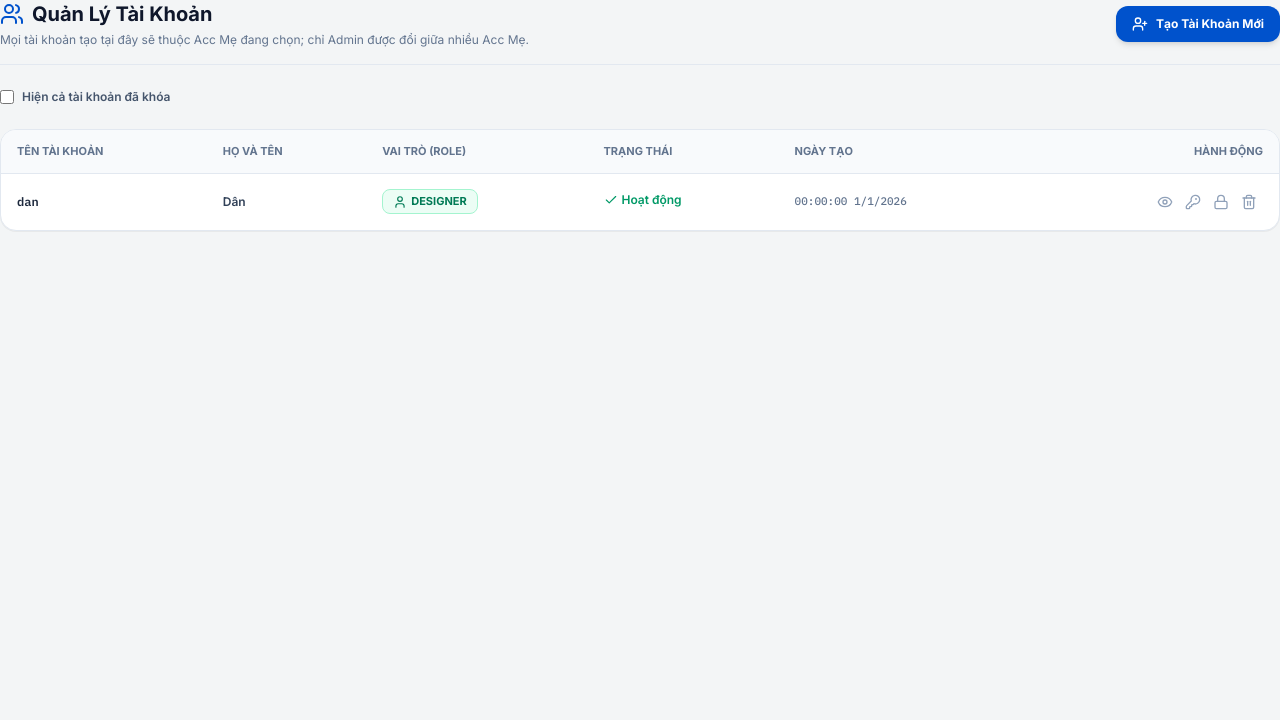
Test: UsersPage › delete refused (409, has history) offers "Xóa tất cả"; confirming it force-deletes
This screenshot has width=1280, height=720.
Expected: the text "dan" is shown, [1,173,207,230]
What coordinates should you click on to do the following:
click the button titled "Xóa tài khoản"
I would click on:
 (1249, 202)
Its box is [1235,188,1263,216].
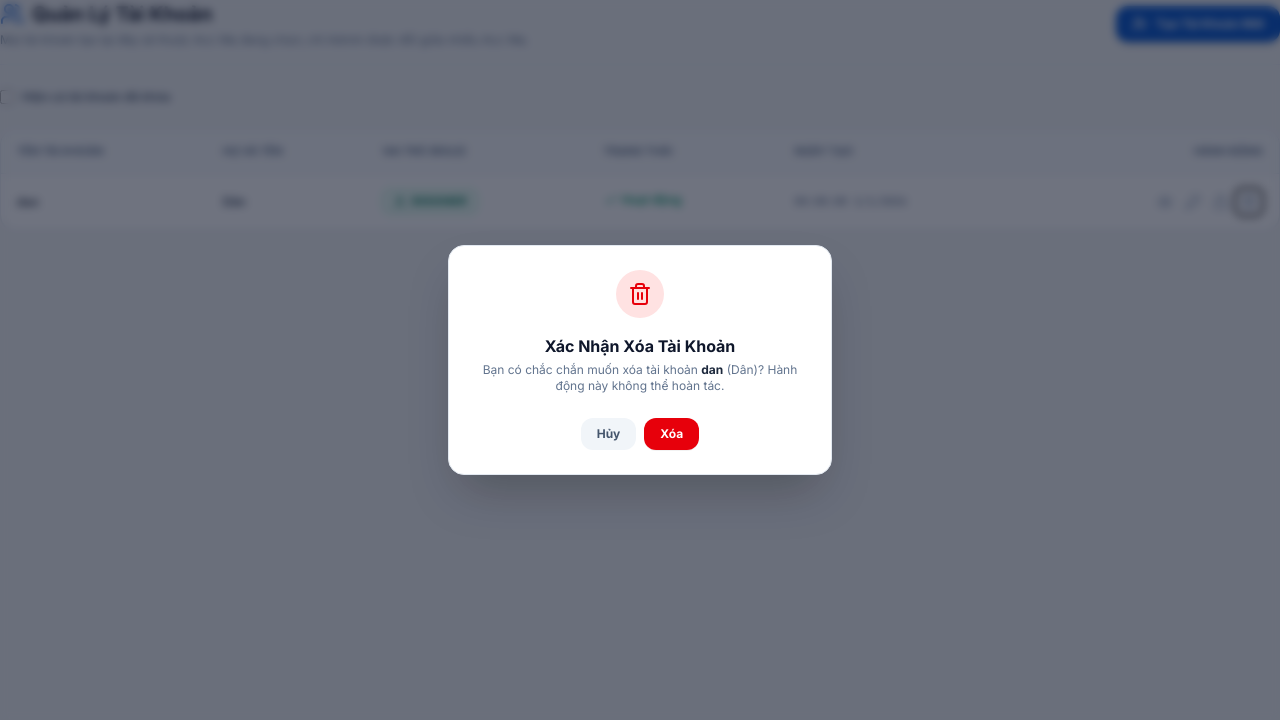
Result: the heading "Xác Nhận Xóa Tài Khoản" is shown at [545,336,735,356]
What coordinates should you click on to do the following:
click the button "Xóa"
I would click on:
 (672, 434)
Its box is [644,418,699,450].
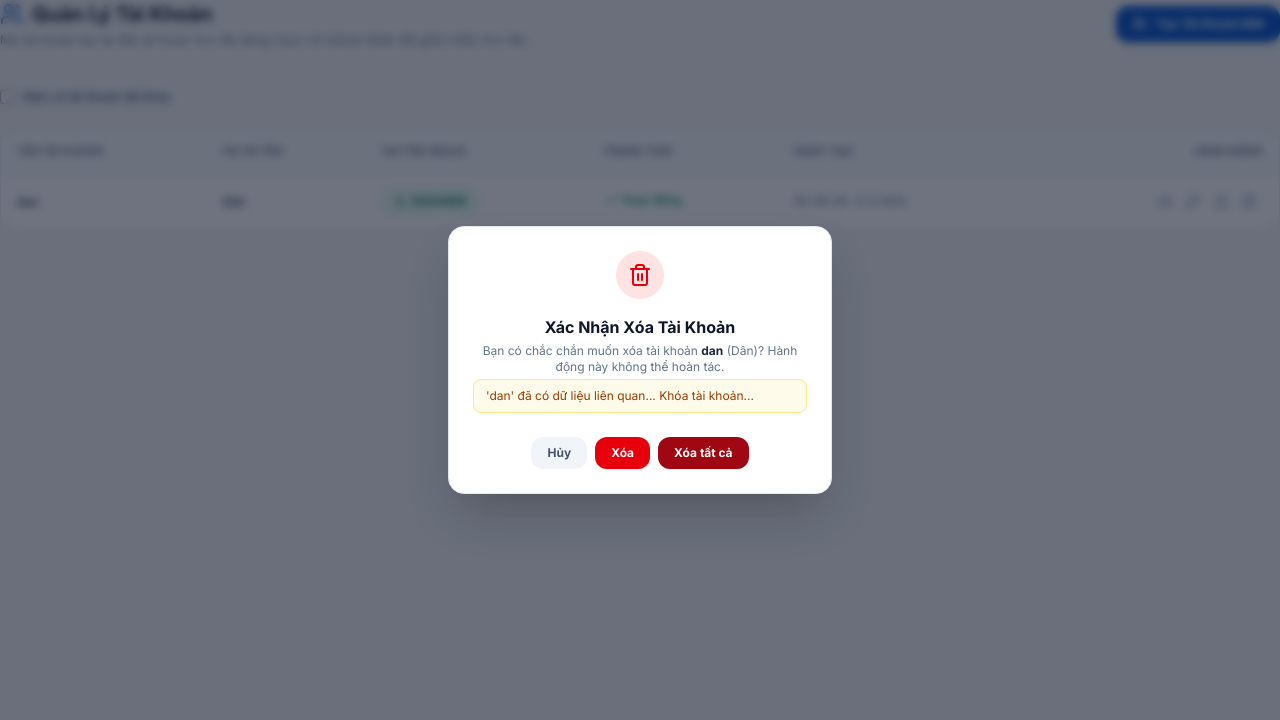
Result: the text "'dan' đã có dữ liệu liên quan... Khóa tài khoản..." is shown at [473,379,807,413]
What coordinates should you click on to do the following:
click the button "Xóa tất cả"
I would click on:
 (703, 453)
Its box is [658,437,748,469].
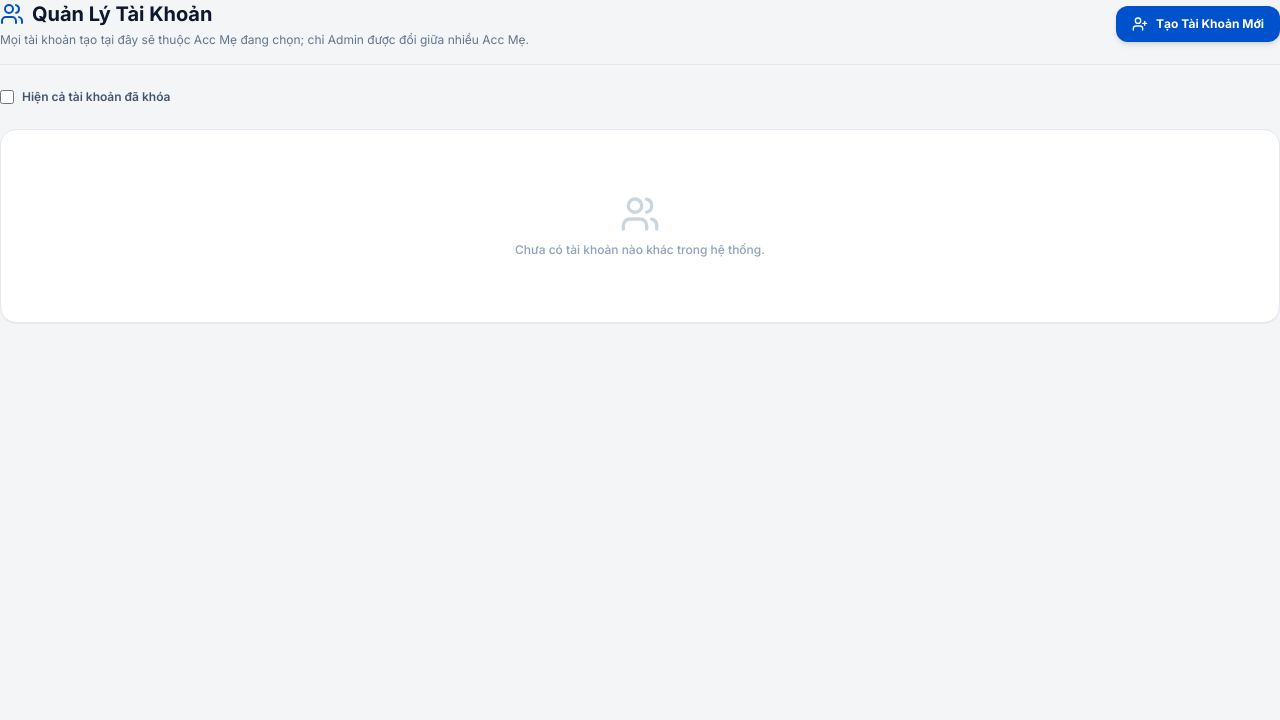
Result: the heading "Xác Nhận Xóa Tài Khoản" is gone
